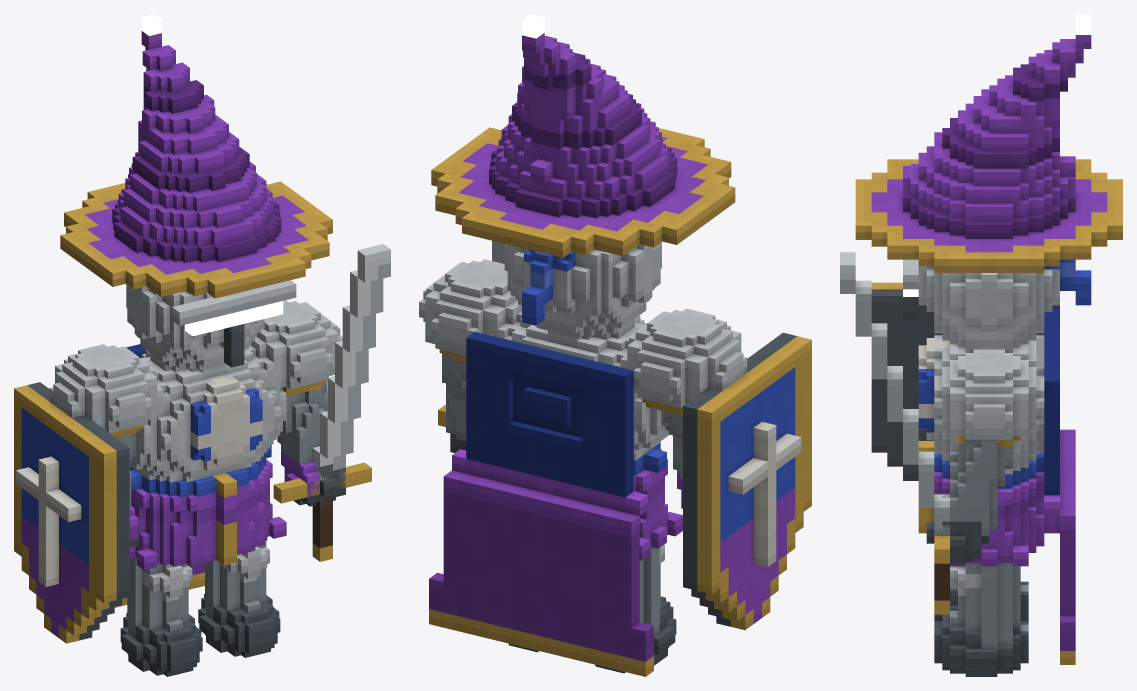
File: u_garde__oracle.glb
3 views of the same model, side by side, from view 1: azimuth 30°, elevation 25°; view 2: azimuth 150°, elevation 25°; view 3: azimuth 270°, elevation 25° (orthographic). The views are drawn at different scales.
Parts seen in each view (by area): view 1: garde_body, garde_weapon, garde_glow; view 2: garde_body; view 3: garde_body, garde_weapon, garde_glow.
Part boxes in pixels (bbox=[...]): garde_body: bbox=[14, 31, 345, 676]; garde_weapon: bbox=[273, 244, 390, 561]; garde_glow: bbox=[141, 14, 283, 336]; garde_body: bbox=[419, 33, 811, 676]; garde_body: bbox=[855, 35, 1122, 676]; garde_weapon: bbox=[840, 252, 949, 614]; garde_glow: bbox=[903, 14, 1091, 296].
Size of the model in its own units: 1.2 by 2.22 by 0.9.
